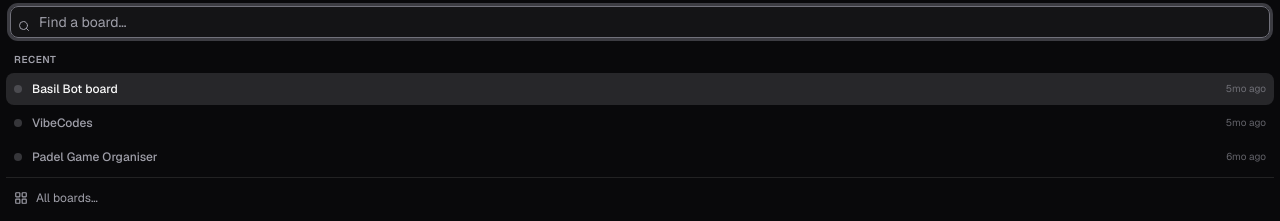
Scenario: BoardPicker › shows 'No boards match' when search has zero results
In the field with placeholder "Find a board…": (640, 22) [10,6,1270,38], type "zzz"
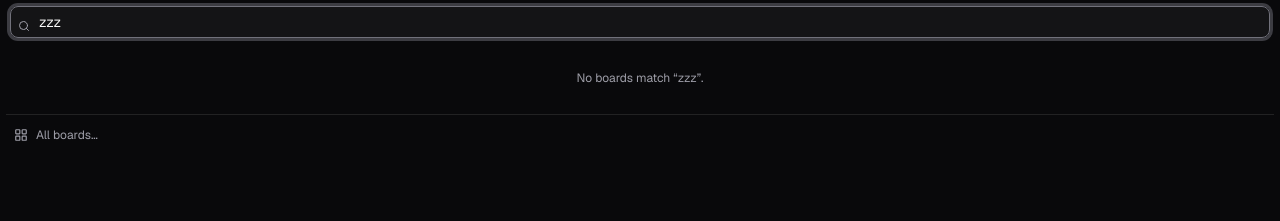
Expected: the text "No boards match “zzz”." is shown, [576,70,704,86]
